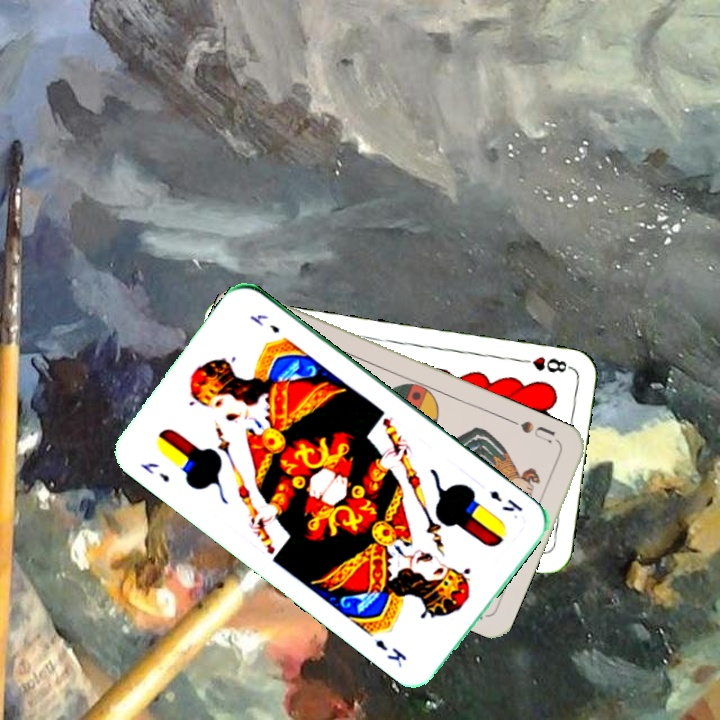EK: (486, 486, 526, 515), (136, 458, 172, 485)
H8: (515, 352, 574, 375)
SU: (506, 415, 558, 446)
